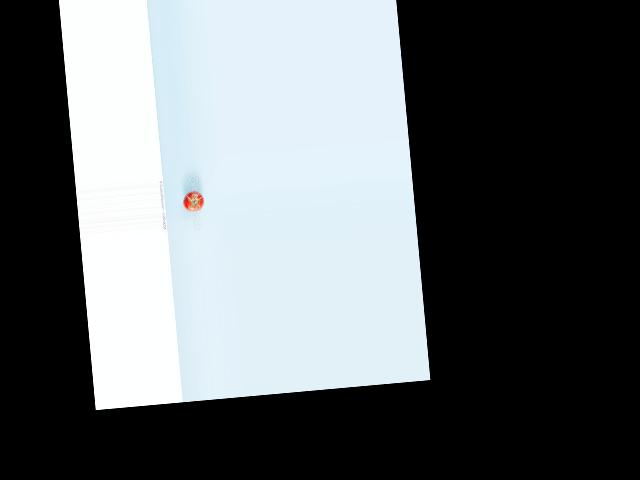tomato: (181, 191, 204, 212)
